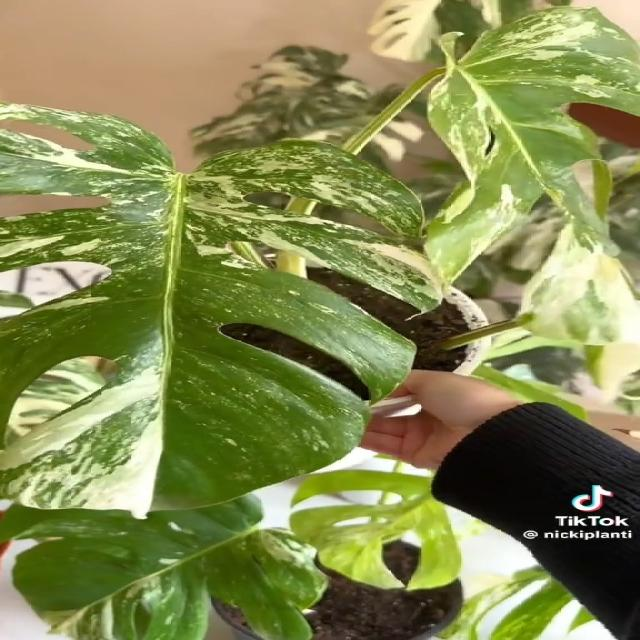lisc_variegata: (0, 98, 446, 520), (419, 6, 640, 346), (0, 494, 332, 640), (185, 45, 411, 158), (366, 0, 573, 65), (433, 563, 594, 640)
roslina_variegata: (0, 0, 640, 640)
